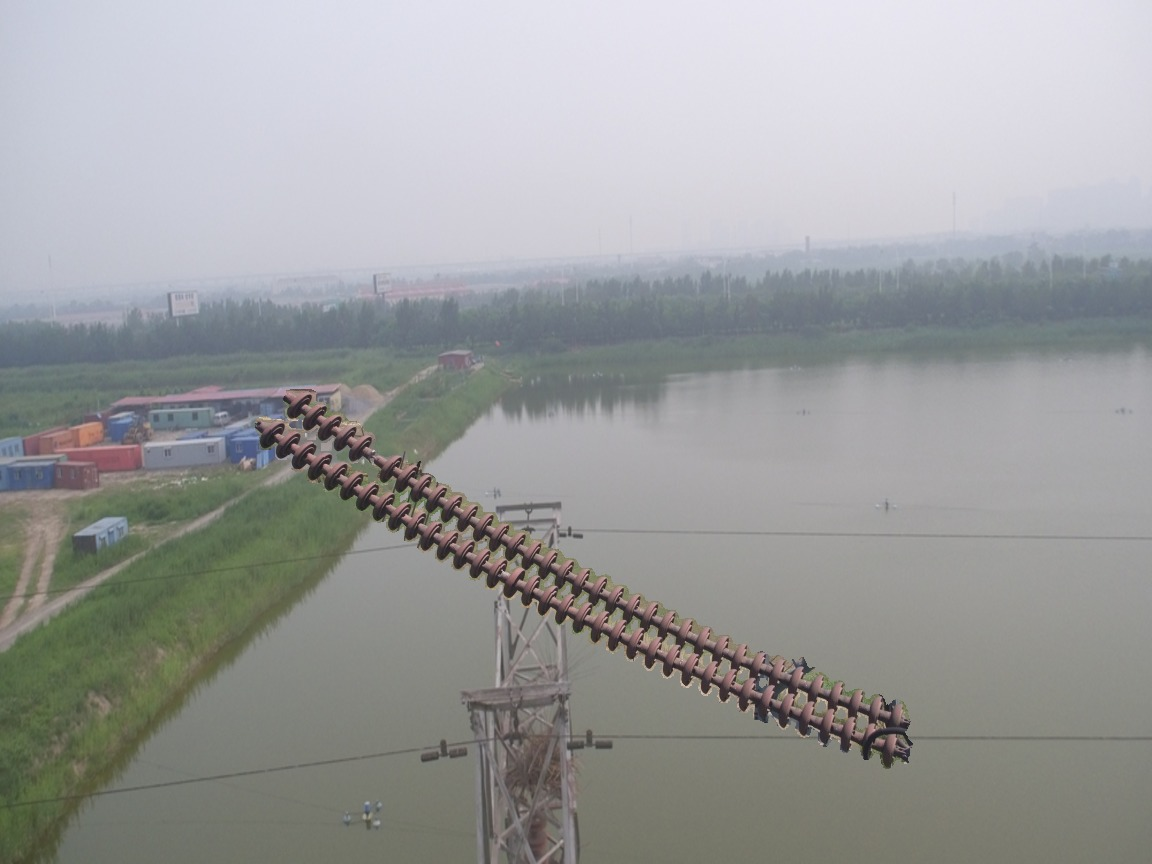defect: (346, 429, 406, 484)
